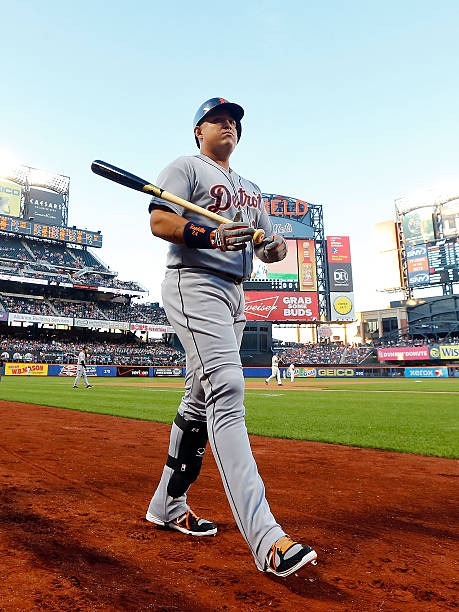bita: (86, 158, 262, 245)
